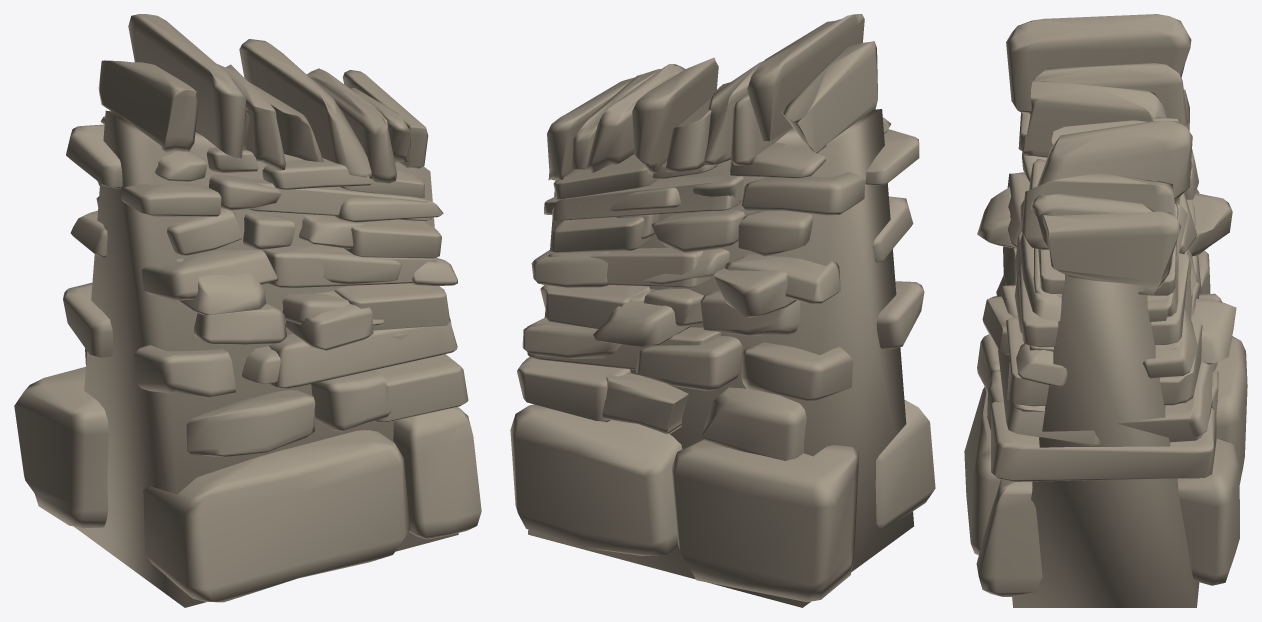
The model's file is boundary.dry_stone.end_c.glb.
3 renders of one model, left to right at view 1: azimuth 30°, elevation 25°; view 2: azimuth 150°, elevation 25°; view 3: azimuth 270°, elevation 25°, orthographic. The views are drawn at different scales.
Parts seen in each view (by area): view 1: main__stone_a98; view 2: main__stone_a98; view 3: main__stone_a98.
Boxes of the visible parts, bbox=[...] form: main__stone_a98: bbox=[14, 14, 481, 607]; main__stone_a98: bbox=[510, 14, 935, 607]; main__stone_a98: bbox=[964, 14, 1247, 607].
Bounding box in the file's own units: 1.15 × 1.7 × 0.8977.
